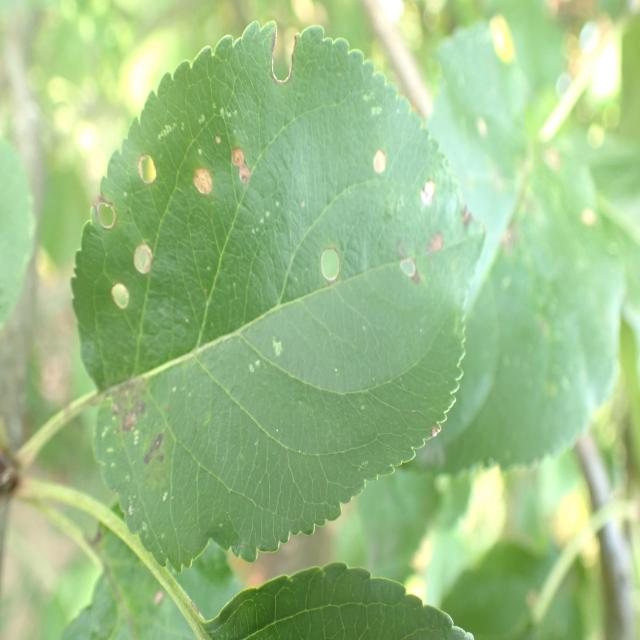frog-eye-leaf-spot: (69, 17, 488, 574), (201, 561, 475, 640)
